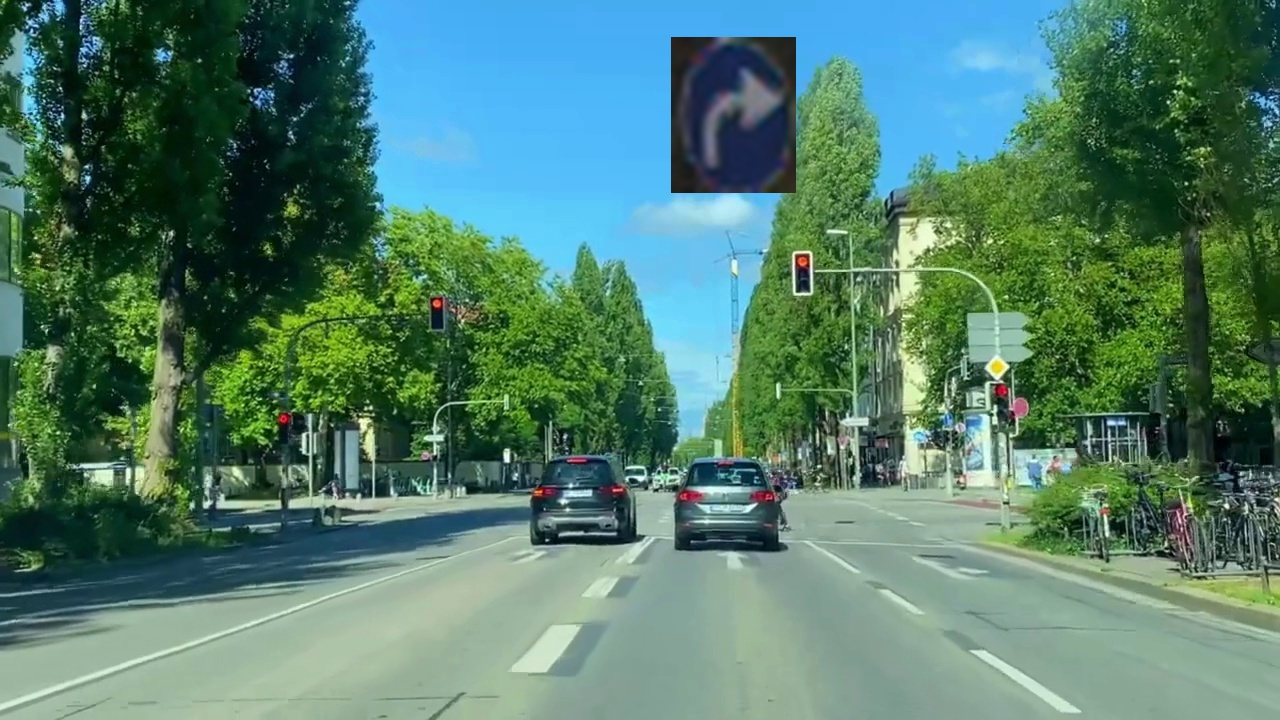Turn right: (671, 37, 796, 193)
